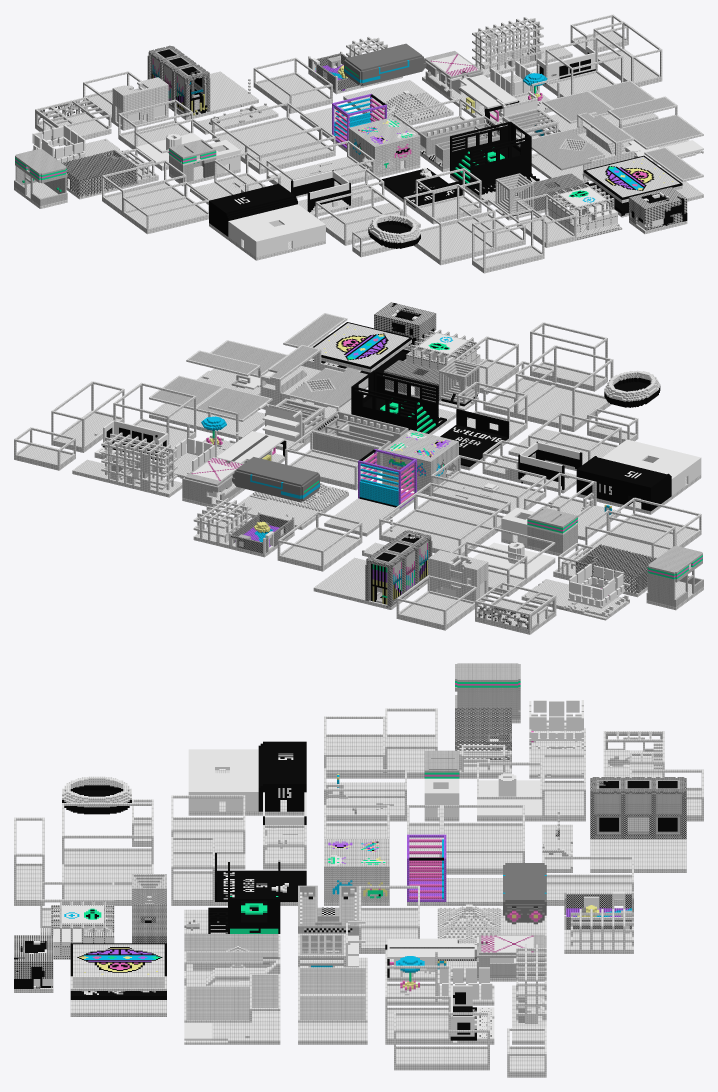
The model's file is Area51-v2.glb.
The picture shows the model from 3 angles, top to bottom: view 1: azimuth 30°, elevation 25°; view 2: azimuth 150°, elevation 25°; view 3: azimuth 270°, elevation 25°; orthographic projection. The views are drawn at different scales.
Parts seen in each view (by area): view 1: solid-voxels_72.011; view 2: solid-voxels_72.011; view 3: solid-voxels_72.011.
Part boxes in pixels (x1,y1,x2,y2): solid-voxels_72.011: (14, 14, 703, 273); solid-voxels_72.011: (14, 302, 703, 634); solid-voxels_72.011: (14, 663, 703, 1077).
Bounding box in the file's own units: 201 × 13 × 158.
1 material, 1 textured.
